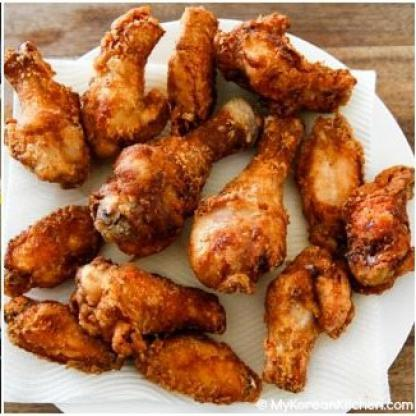ayam_goreng: (93, 102, 262, 256), (187, 113, 303, 289), (213, 14, 357, 119), (262, 245, 361, 387), (73, 259, 225, 343), (83, 8, 163, 159), (8, 46, 86, 184), (4, 205, 105, 298), (5, 298, 128, 374), (129, 335, 260, 406), (300, 118, 364, 246), (352, 164, 415, 293), (166, 0, 217, 128)
